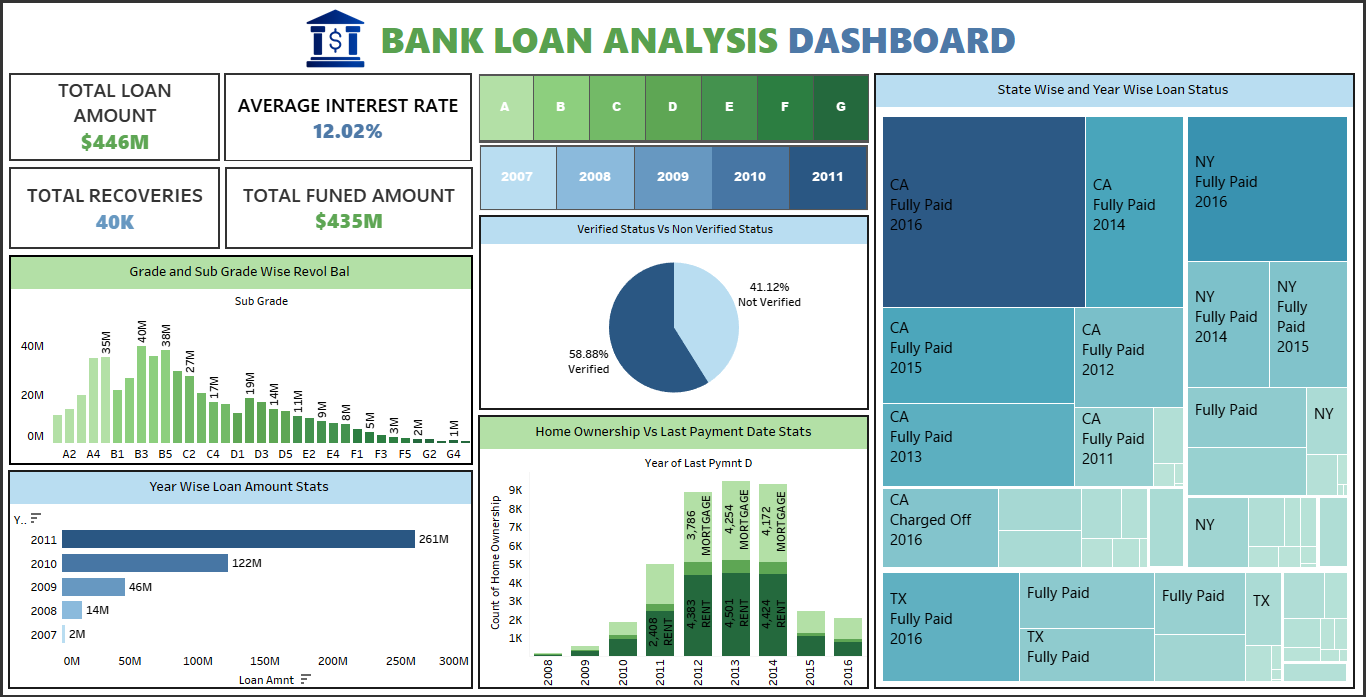

What the dashboard file says about the page in this screenshot:
{"tool":"tableau","page":{"name":"Dashboard 3","canvas":[1000,1000],"units":"permille","ordinal":0},"visuals":[{"type":"image","param":"Image/bank (3)ik.png","box":[220.2,7.2,50,94.2]},{"type":"text","box":[268.7,14.5,484.3,83.3]},{"type":"worksheet","title":"Avg","mark":"Automatic","box":[164.3,104.5,181.2,126.9]},{"type":"worksheet","title":"loan","mark":"Automatic","box":[6.2,104.9,154.5,126.6]},{"type":"worksheet","title":"Grade Filter","mark":"Automatic","rows":["Calculation_1132373831686709253"],"cols":["grade"],"box":[348.9,105.1,287.4,99.6]},{"type":"worksheet","title":"KPI 04","mark":"Automatic","box":[639.8,105.1,352.4,882.2]},{"type":"worksheet","title":"Year Filter","mark":"Bar","rows":["Calculation_1132373831687622663"],"cols":["issue_d"],"box":[349.8,206.5,285.4,96]},{"type":"worksheet","title":"recoveries","mark":"Automatic","box":[6.2,238.8,154.5,117.5]},{"type":"worksheet","title":"funded","mark":"Automatic","box":[164.5,239.1,181.8,117.8]},{"type":"worksheet","title":"KPI 03","mark":"Pie","box":[350.7,308,285.7,279]},{"type":"worksheet","title":"KPI 02","mark":"Automatic","rows":["revol_bal"],"cols":["sub_grade"],"box":[6.9,365.9,339.4,300.7]},{"type":"worksheet","title":"KPI 05","mark":"Bar","rows":["home_ownership"],"cols":["last_pymnt_d"],"box":[349.8,594.2,286.6,393.1]},{"type":"worksheet","title":"KPI 01","mark":"Bar","rows":["issue_d"],"cols":["loan_amnt"],"box":[6.1,673.9,340.3,313.4]}]}

Visuals, with their boxes on the dashboard's canvas, which has no fixed pixel size, in thousandths of its width and height (x1, y1, x2, y2). These are canvas units, not pixel positions in the 1366x697 screenshot, which may show the page scaled, cropped or inside an application window:
image: region(220, 7, 270, 101)
text: region(269, 14, 753, 98)
"Avg" worksheet: region(164, 104, 346, 231)
"loan" worksheet: region(6, 105, 161, 232)
"Grade Filter" worksheet: region(349, 105, 636, 205)
"KPI 04" worksheet: region(640, 105, 992, 987)
"Year Filter" worksheet (Bar marks): region(350, 206, 635, 302)
"recoveries" worksheet: region(6, 239, 161, 356)
"funded" worksheet: region(164, 239, 346, 357)
"KPI 03" worksheet (Pie marks): region(351, 308, 636, 587)
"KPI 02" worksheet: region(7, 366, 346, 667)
"KPI 05" worksheet (Bar marks): region(350, 594, 636, 987)
"KPI 01" worksheet (Bar marks): region(6, 674, 346, 987)
